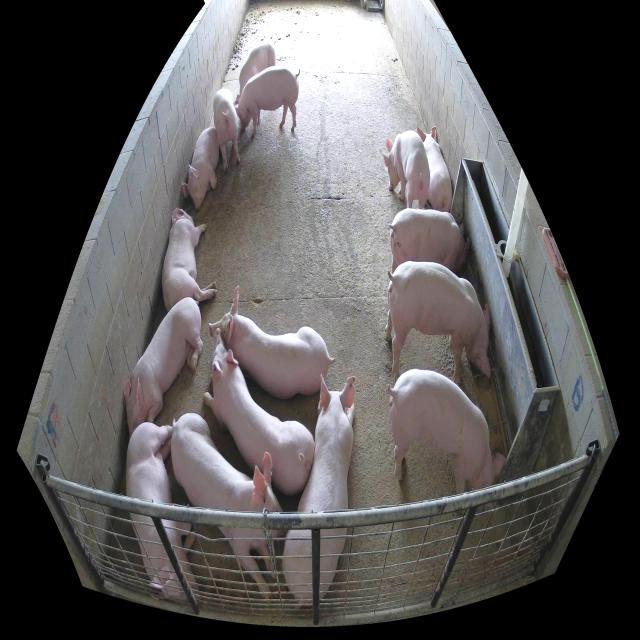pig: (170, 414, 289, 604), (203, 328, 315, 497), (281, 374, 357, 608), (126, 423, 204, 605), (389, 370, 506, 490), (384, 260, 493, 381), (210, 286, 332, 394), (125, 299, 203, 438), (161, 206, 218, 314), (389, 209, 469, 275), (234, 65, 300, 140), (378, 129, 430, 209), (416, 122, 453, 212), (181, 128, 219, 213), (234, 43, 277, 104), (213, 89, 240, 173)
